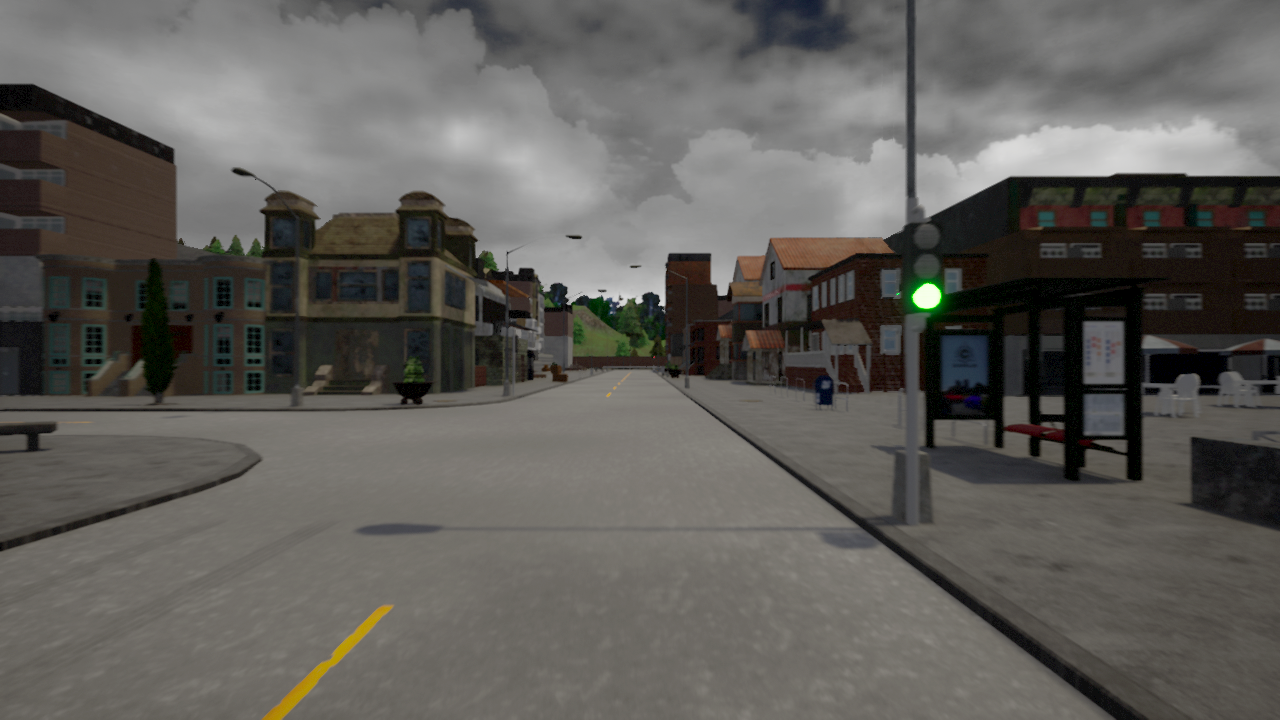green: (900, 218, 945, 313)
